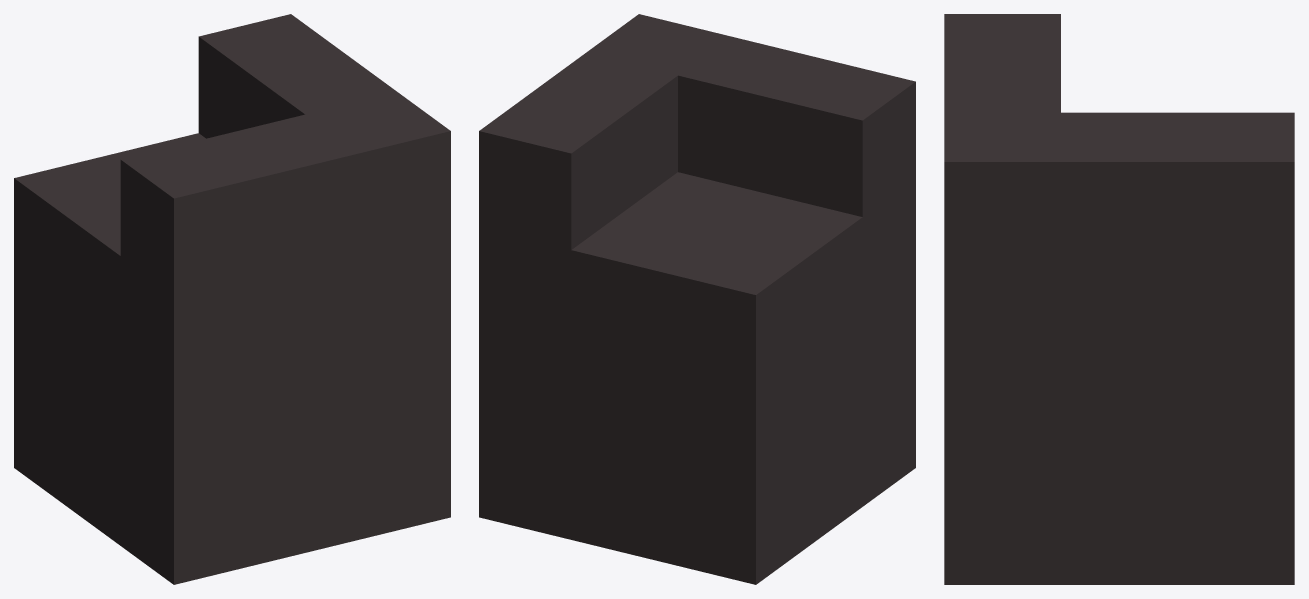
File: badger__leg_fl.glb
3 views of the same model, side by side, from view 1: azimuth 30°, elevation 25°; view 2: azimuth 150°, elevation 25°; view 3: azimuth 270°, elevation 25° (orthographic). The views are drawn at different scales.
Parts seen in each view (by area): view 1: badger__leg_fl; view 2: badger__leg_fl; view 3: badger__leg_fl.
Boxes of the visible parts, x1,y1,x2,y2 form: badger__leg_fl: [14, 14, 450, 584]; badger__leg_fl: [479, 14, 915, 584]; badger__leg_fl: [944, 14, 1294, 584].
Bounding box in the file's own units: 0.3 × 0.4 × 0.3.
1 material, 1 textured.
